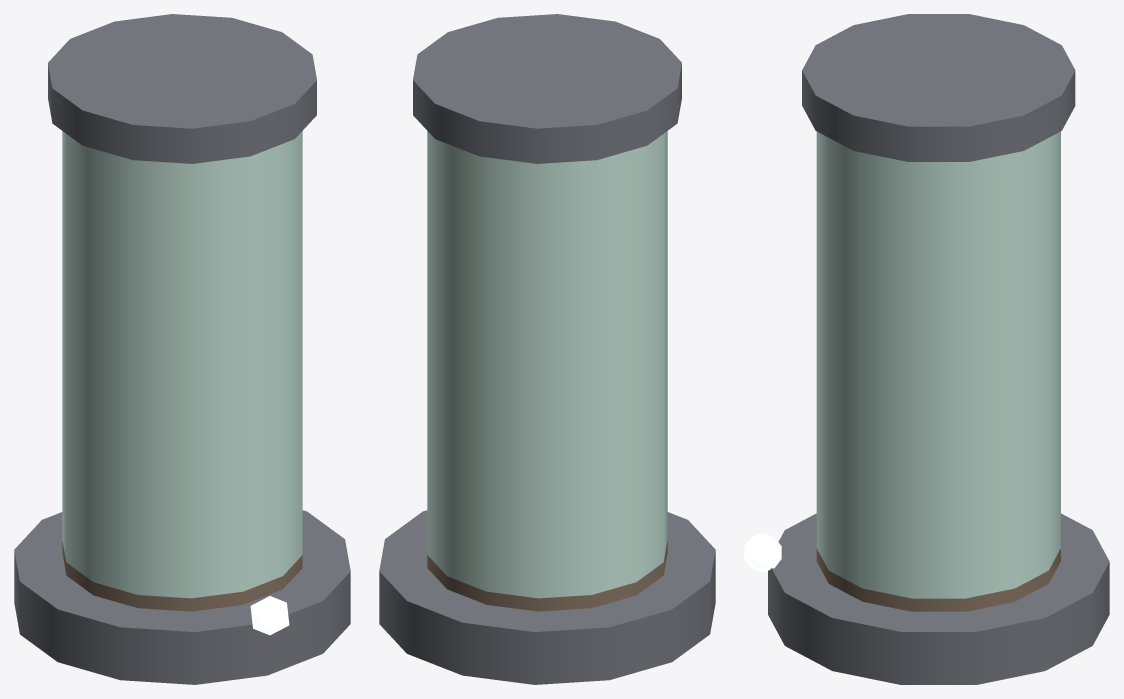
The model's file is vegetube.fbx.
3 views of the same model, side by side, from view 1: azimuth 30°, elevation 25°; view 2: azimuth 150°, elevation 25°; view 3: azimuth 270°, elevation 25° (orthographic).
Visible parts, largest first — view 1: vegetube, Indicator; view 2: vegetube; view 3: vegetube, Indicator.
Boxes of the visible parts, box(x1,y1,x2,y2) form: vegetube: box(14, 14, 350, 684); Indicator: box(250, 596, 289, 635); vegetube: box(379, 14, 715, 684); vegetube: box(768, 14, 1109, 684); Indicator: box(744, 533, 781, 572).
Bounding box in the file's own units: 1.36 × 2.46 × 1.5.
